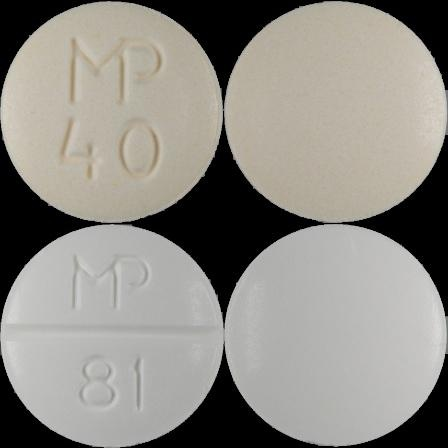53489-144: (0, 0, 224, 224)
